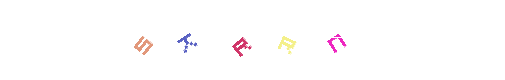C: (243, 0, 323, 80)
K: (146, 0, 226, 80)
R: (212, 0, 292, 80), (242, 0, 322, 80)
S: (116, 0, 196, 80)
